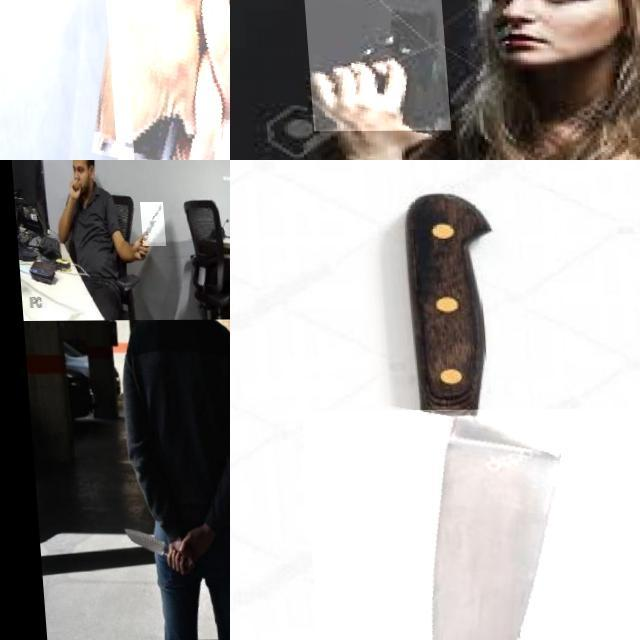-: (297, 409, 640, 640), (114, 526, 182, 568), (137, 202, 162, 246)
gun-knife-thesis - v11 Yolov5 augmented: (0, 0, 164, 160), (78, 0, 230, 160), (301, 0, 447, 131)
